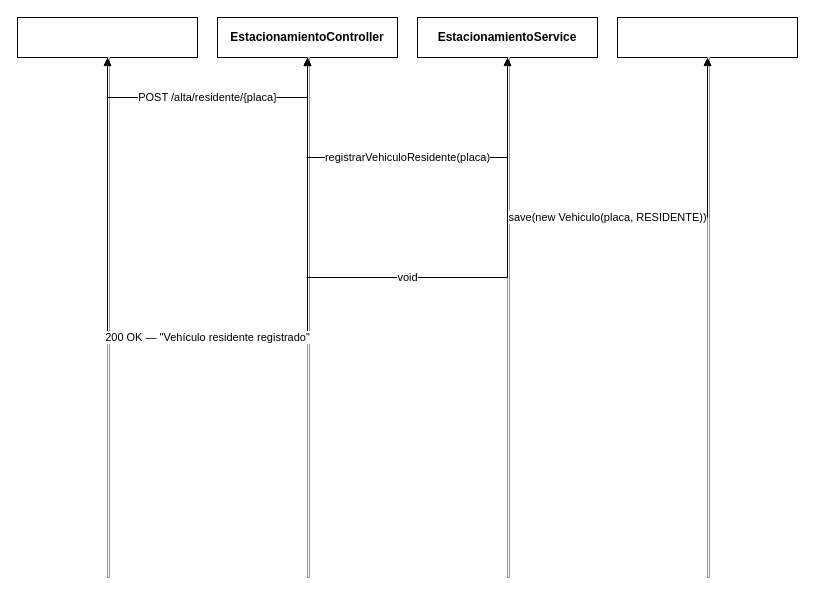
This 815x595 diagram has some shape labels left out. Each missing label, with the centre of its shape:
Cliente: point 107,37
VehiculoRepository: point 707,37
